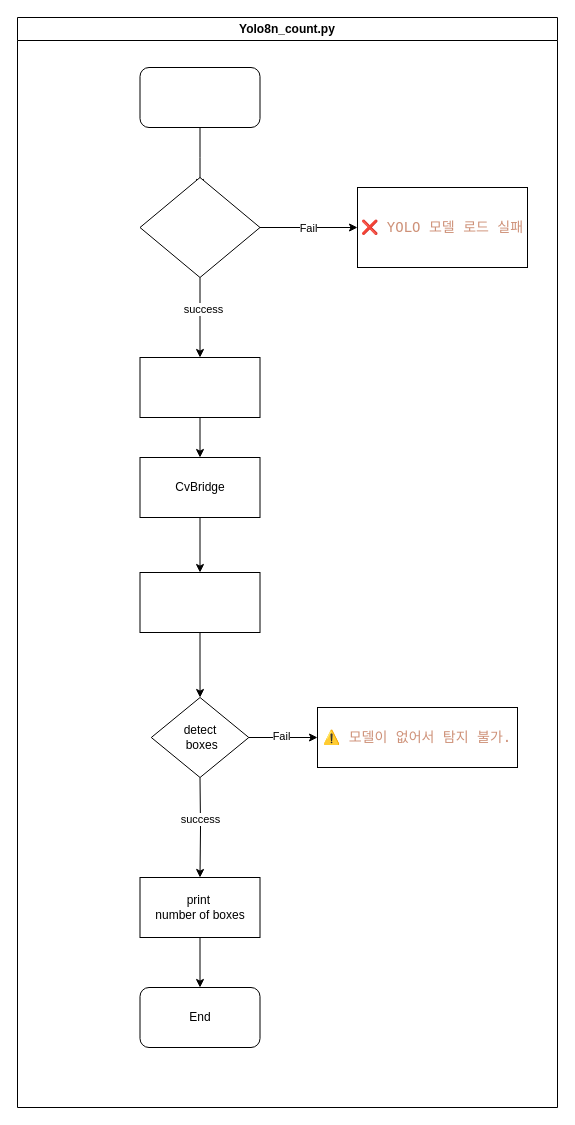
The diagram is 575 pixels wide and 1125 high, and some of its shapes have lost their labels. The box of each missing label's shape, as (x1, y1, x2, y2) in pixels:
Camera topic subscriber: (139, 356, 260, 418)
Load Yolo model: (139, 176, 260, 278)
read cv2 image: (139, 572, 260, 632)
Start: (139, 66, 260, 128)
